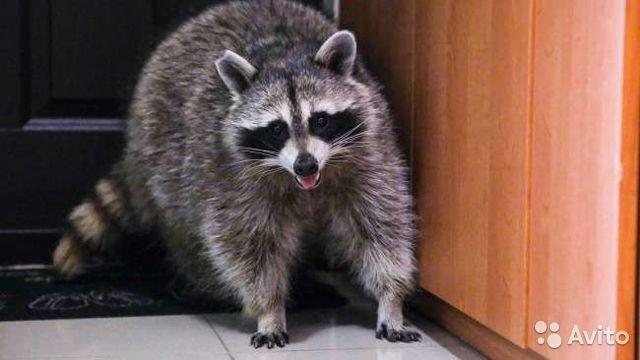raccoon: (52, 0, 425, 349)
